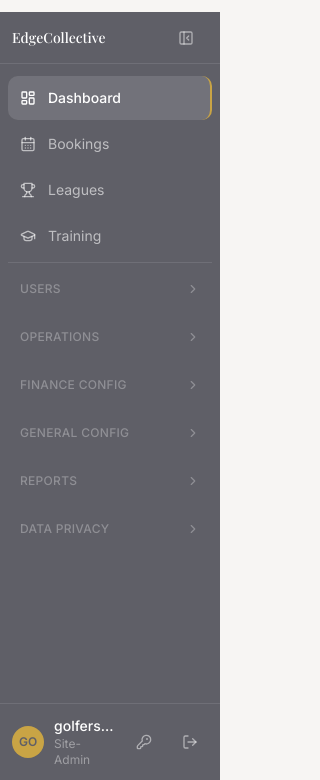
Scenario: AdminSidebar – width constraint › shows All Users and Corporate Accounts without a separate Members entry
This screenshot has width=320, height=780.
Click the button "Users": click(110, 289) x1=8 y1=267 x2=212 y2=311
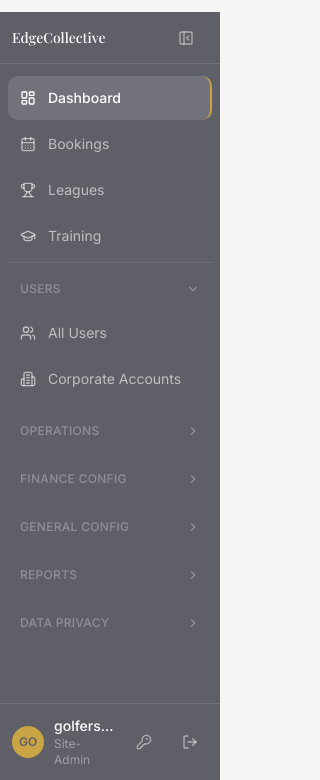
Expected: the text "All Users" is shown, x1=48 y1=323 x2=107 y2=343
Expected: the text "Corporate Accounts" is shown, x1=48 y1=369 x2=181 y2=389
